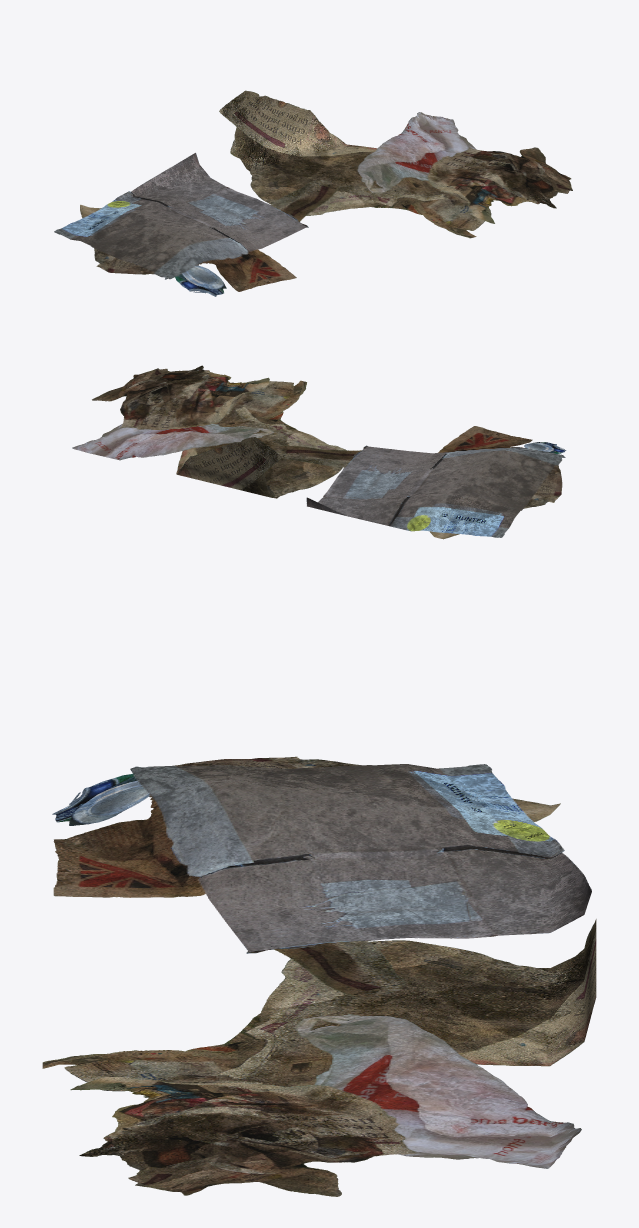
File: 3D_Decal_12.fbx
The picture shows the model from 3 angles, top to bottom: view 1: azimuth 30°, elevation 25°; view 2: azimuth 150°, elevation 25°; view 3: azimuth 270°, elevation 25°; orthographic projection. The views are drawn at different scales.
Parts seen in each view (by area): view 1: THREED_Decal; view 2: THREED_Decal; view 3: THREED_Decal.
Boxes of the visible parts, left/top/right/bottom form: THREED_Decal: left=54, top=90, right=572, bottom=296; THREED_Decal: left=72, top=365, right=566, bottom=539; THREED_Decal: left=42, top=756, right=596, bottom=1196.
Size of the model in its own units: 2.42 by 0.4172 by 1.23.
